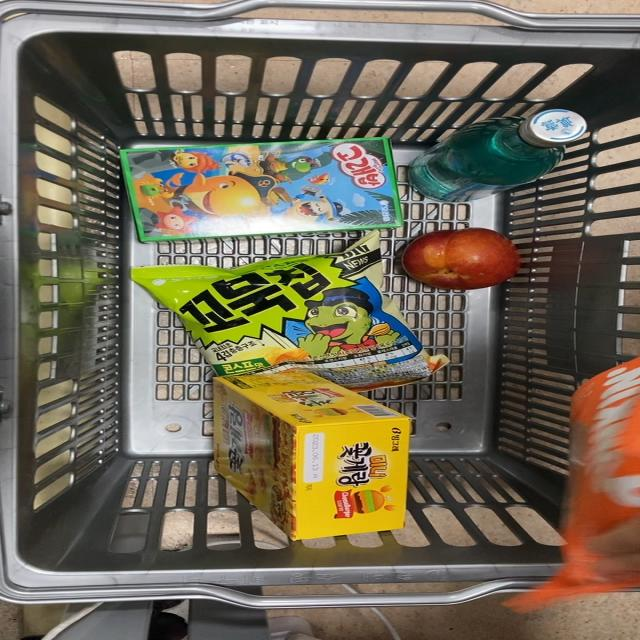ggobukchip: (126, 233, 455, 411)
goraebob: (114, 132, 409, 247)
jinro: (388, 104, 605, 216)
minicrab: (203, 369, 414, 548)
plum: (393, 226, 534, 294)
